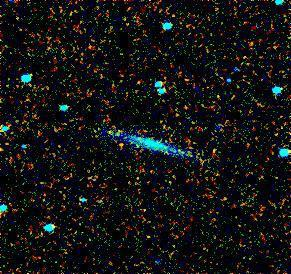star: (106, 131, 136, 161)
